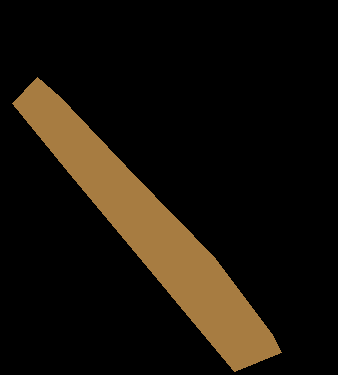parkingspot: (12, 77, 281, 371)
